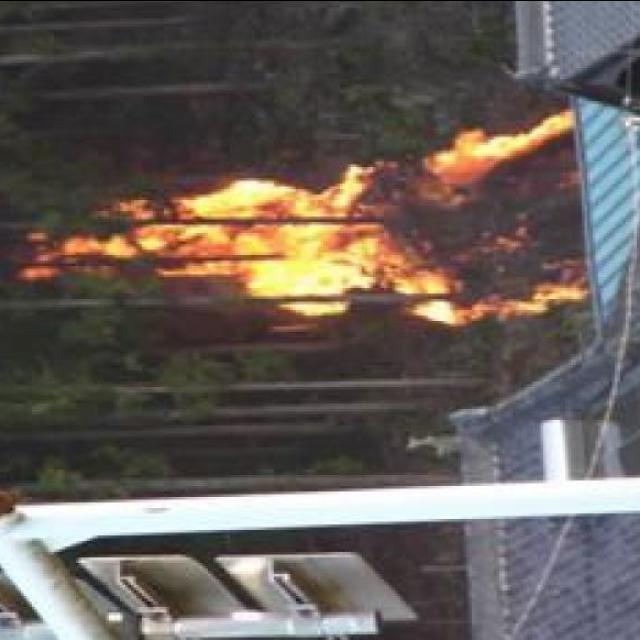Fire: (68, 115, 574, 326)
